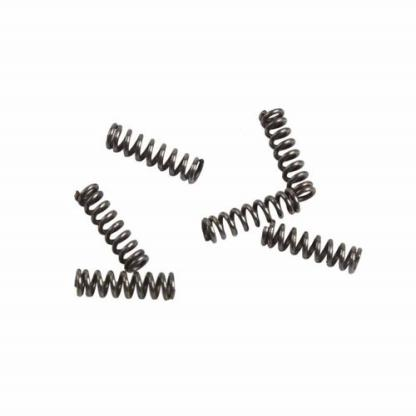FOD: (73, 181, 151, 273), (102, 119, 208, 185), (257, 99, 316, 208), (260, 217, 366, 275), (200, 187, 301, 245), (71, 266, 177, 301)
